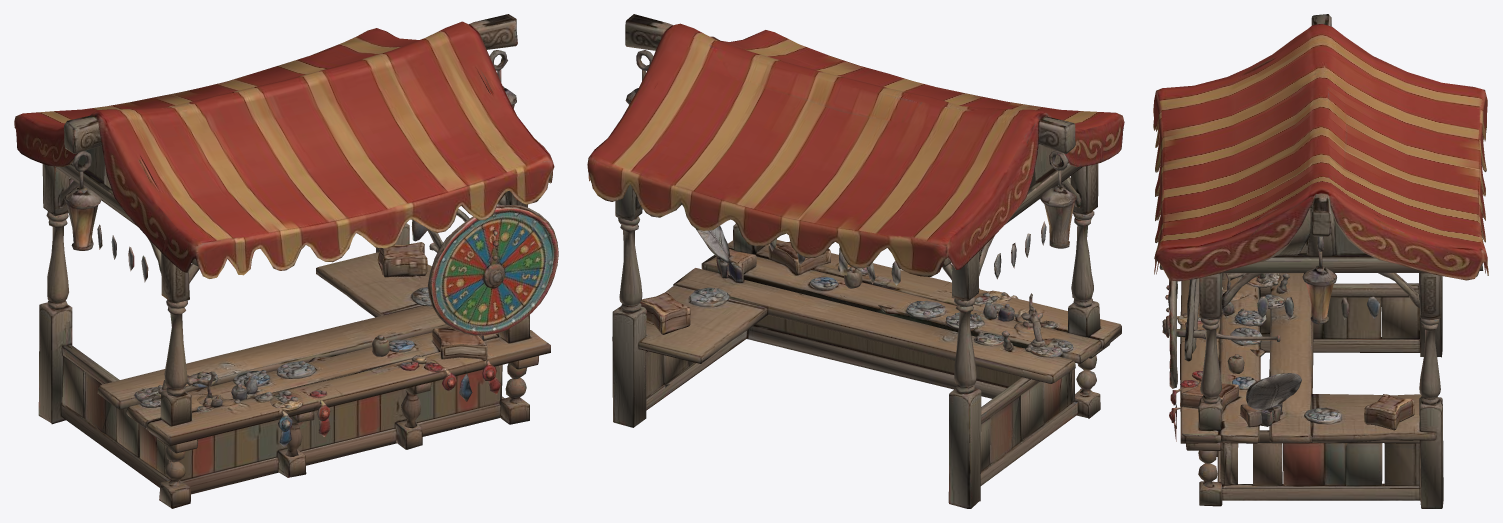
The model's file is praca_loteria.glb.
3 views of the same model, side by side, from view 1: azimuth 30°, elevation 25°; view 2: azimuth 150°, elevation 25°; view 3: azimuth 270°, elevation 25° (orthographic). The views are drawn at different scales.
Visible parts, largest first — view 1: mesh_node; view 2: mesh_node; view 3: mesh_node.
Boxes of the visible parts, x1,y1,x2,y2 form: mesh_node: (14,14,558,508); mesh_node: (587,14,1124,508); mesh_node: (1153,14,1488,508).
Size of the model in its own units: 1 by 0.7578 by 0.7129.
1 material, 1 textured.
